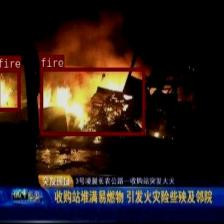fire: (39, 66, 145, 134), (0, 68, 20, 110)
